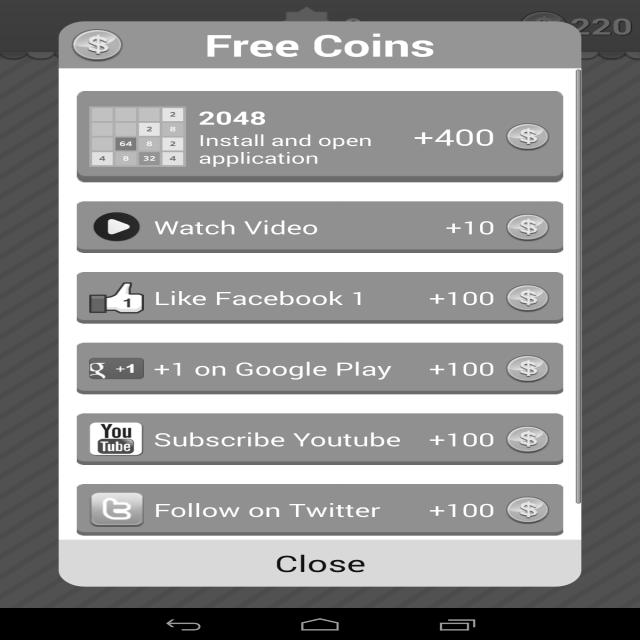ImageView: (82, 105, 183, 163), (64, 26, 131, 62), (76, 358, 162, 383), (86, 492, 144, 524), (87, 286, 135, 324), (88, 422, 142, 454), (99, 209, 142, 247), (511, 286, 554, 319), (509, 423, 551, 452), (509, 211, 551, 240), (509, 122, 549, 152), (511, 357, 544, 384), (511, 490, 542, 517)
TextView: (190, 112, 377, 166), (151, 421, 398, 454), (197, 28, 436, 61), (151, 356, 398, 383), (153, 500, 392, 527), (151, 286, 365, 313), (153, 214, 319, 241), (410, 117, 492, 156), (416, 427, 499, 457), (416, 284, 499, 308), (418, 357, 500, 379), (425, 503, 500, 524), (439, 217, 502, 239)
